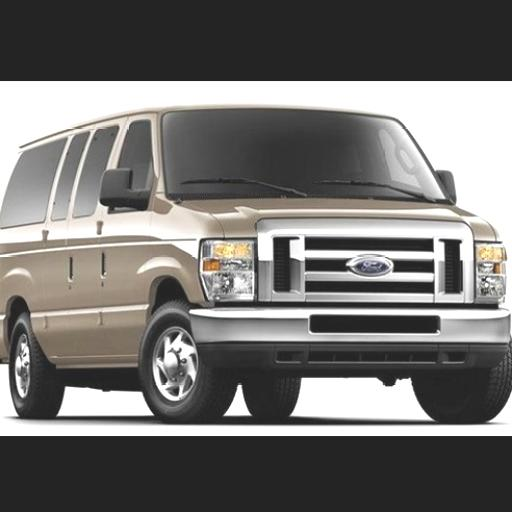van: (0, 107, 512, 421)
